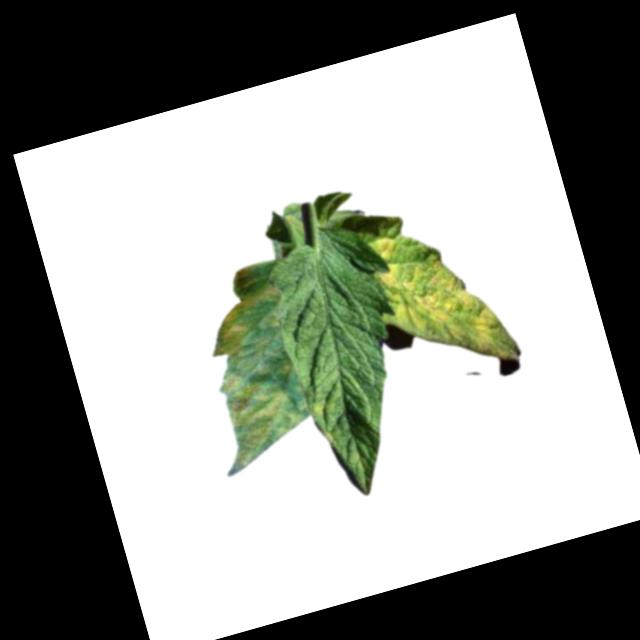Leaf_Mold: (176, 260, 321, 477), (360, 209, 524, 395), (309, 401, 342, 446)
